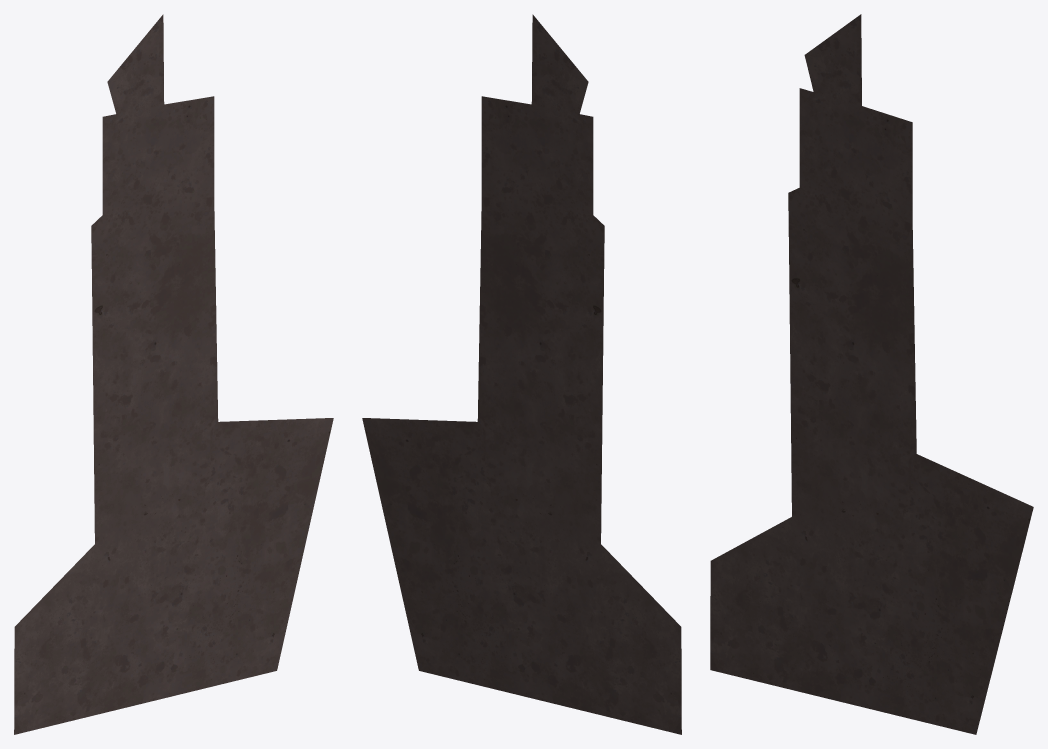
Rendered from Vista06.fbx.
3 renders of one model, left to right at view 1: azimuth 30°, elevation 25°; view 2: azimuth 150°, elevation 25°; view 3: azimuth 330°, elevation 25°, orthographic.
Parts seen in each view (by area): view 1: SM_ENV_STRUCT_ScrapYard_Vista_06.mo; view 2: SM_ENV_STRUCT_ScrapYard_Vista_06.mo; view 3: SM_ENV_STRUCT_ScrapYard_Vista_06.mo.
Part boxes in pixels (<box>): SM_ENV_STRUCT_ScrapYard_Vista_06.mo: <box>14,14,333,734</box>; SM_ENV_STRUCT_ScrapYard_Vista_06.mo: <box>362,14,681,734</box>; SM_ENV_STRUCT_ScrapYard_Vista_06.mo: <box>710,14,1033,734</box>.
Bounding box in the file's own units: 959 × 1962 × 0.000381.
1 material, 1 textured.
